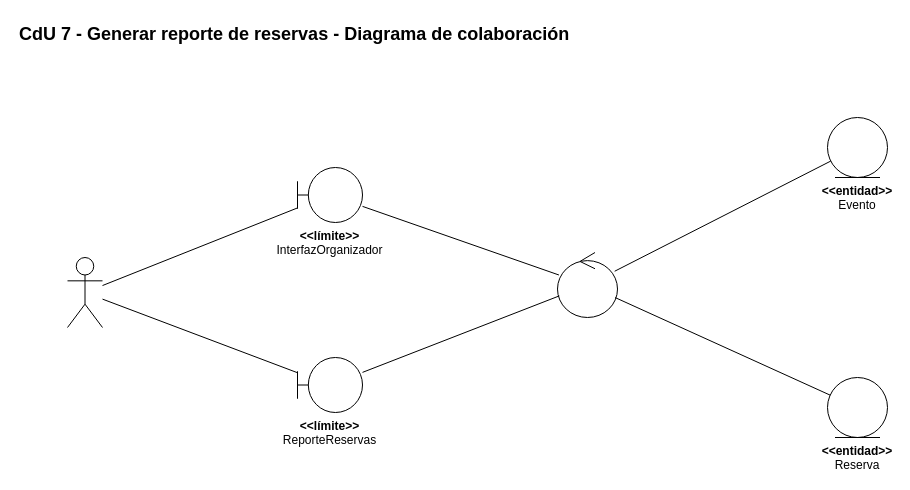
Image size: 910x490. Some labels were removed from this diagram. Here are the shapes that lost their labels. From the top down, the centre of each, then its label:
[84,292]: <<actor>> Organizador
[587,285]: <<control>> GestiónReserva
